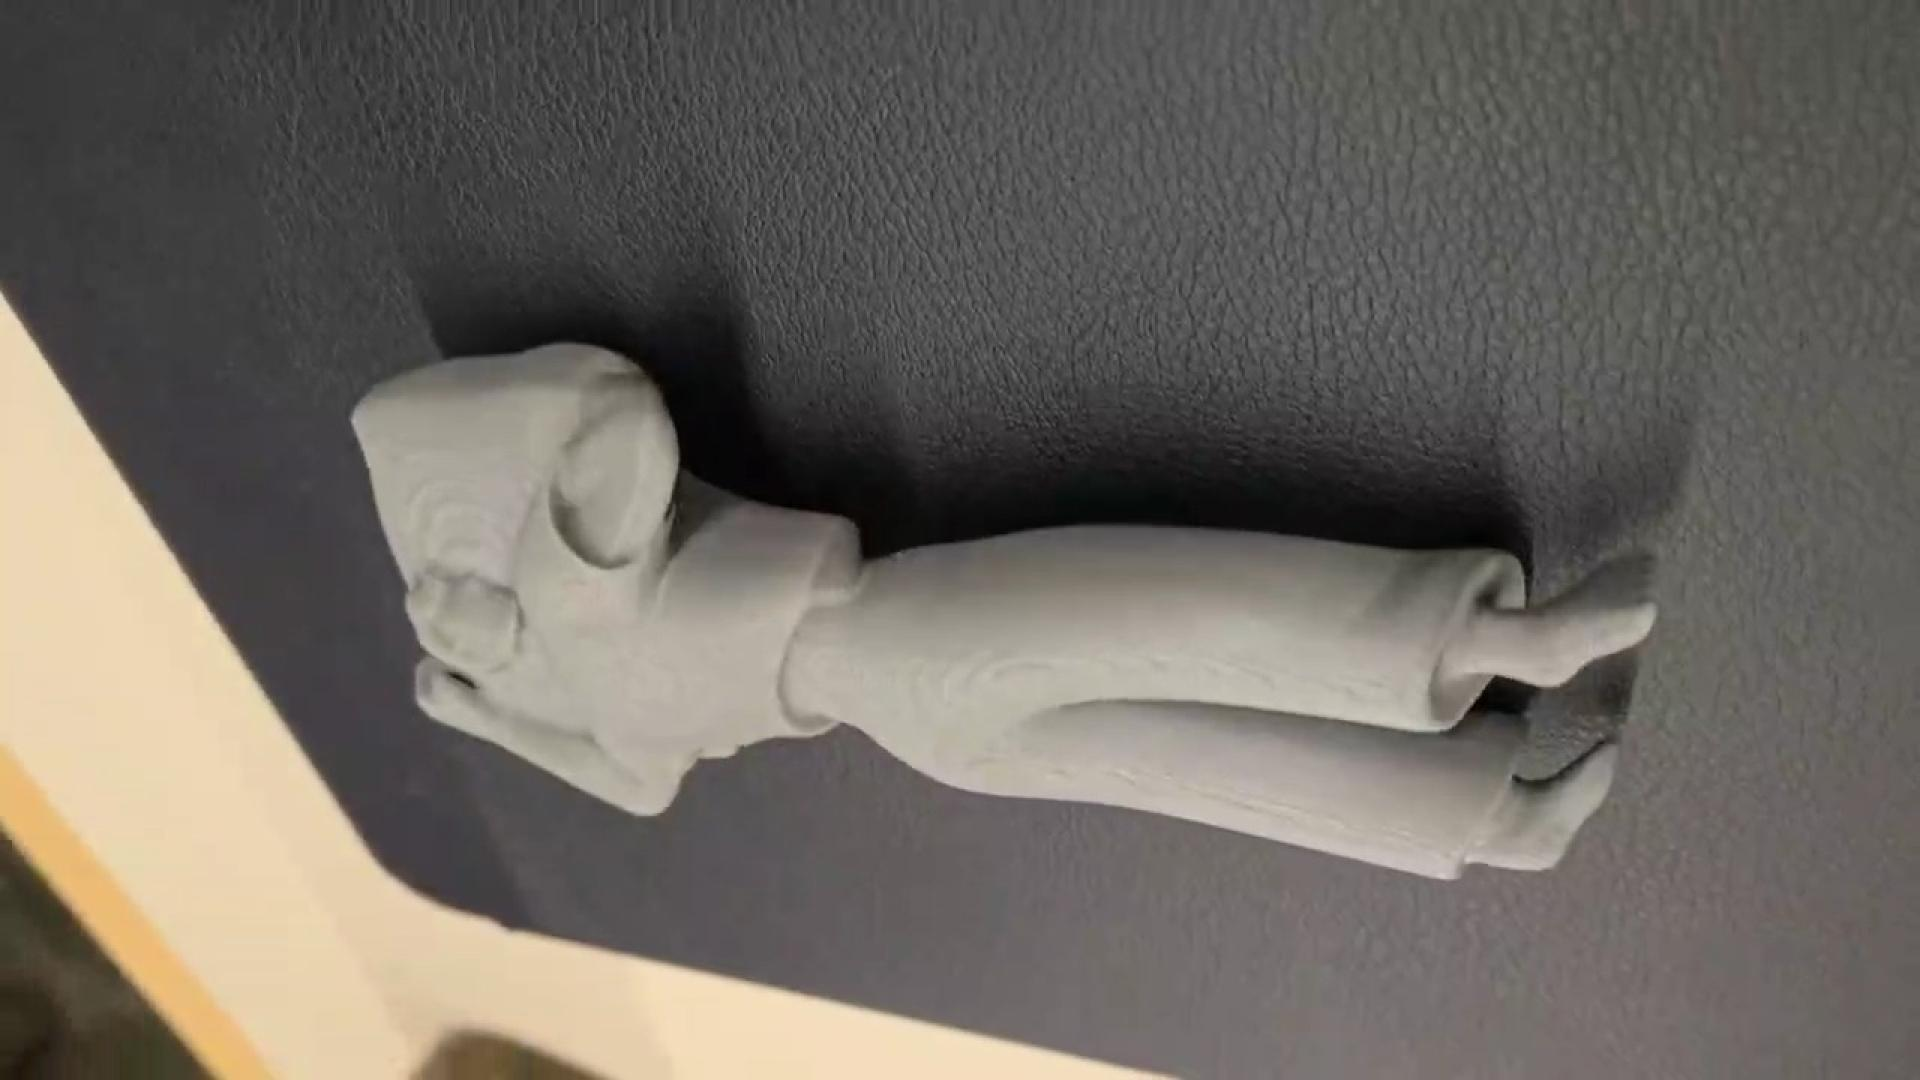Bad-style: (351, 334, 1658, 886)
